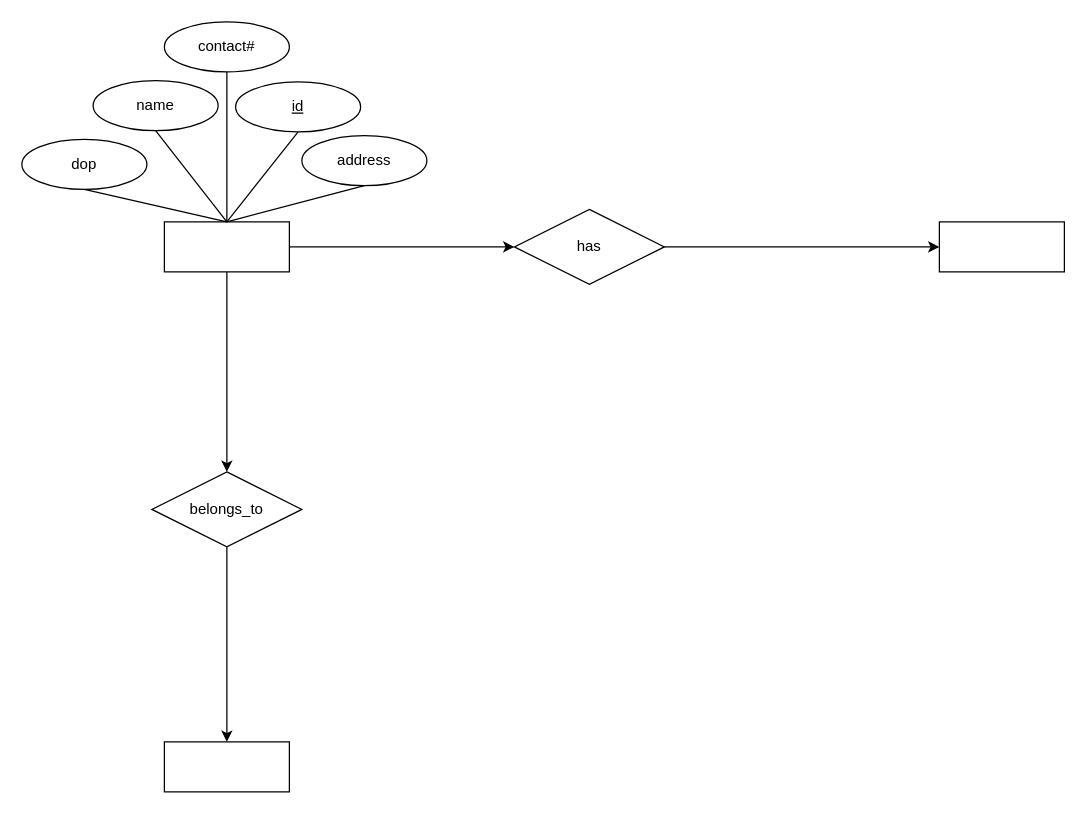
This 1086x814 diagram has some shape labels left out. The shapes that lost their labels are listed below. From the top down, each one's box as (x1, y1, x2, y2) in pixels, then its label:
(163, 221, 289, 272): PUBLISHER
(938, 221, 1064, 272): PRIVILEGES
(163, 741, 289, 792): GROUP
